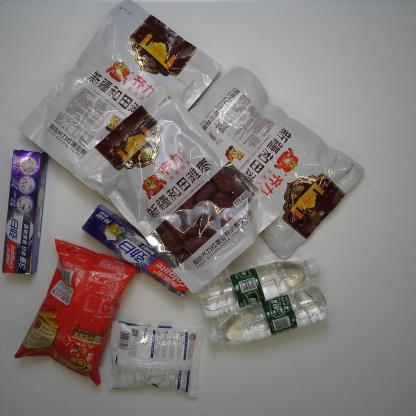Dried Food: (69, 82, 281, 297), (17, 2, 223, 204), (184, 63, 366, 262)
Drink: (206, 284, 331, 348), (199, 256, 322, 320)
Personal Hygiene: (79, 203, 187, 302), (0, 148, 50, 276)
Puffed Food: (13, 237, 142, 387)
Seasoner: (106, 319, 206, 400)
